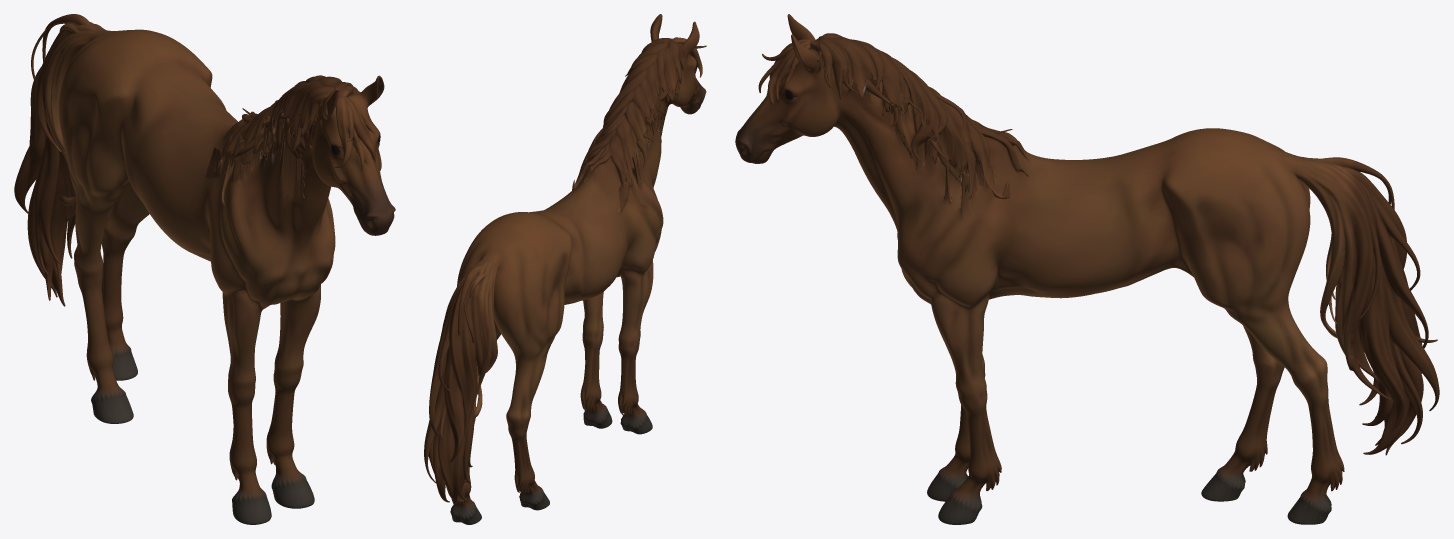
File: Halla.glb
3 renders of one model, left to right at view 1: azimuth 30°, elevation 25°; view 2: azimuth 150°, elevation 25°; view 3: azimuth 270°, elevation 25°, orthographic. The views are drawn at different scales.
Parts seen in each view (by area): view 1: Halla_LOW; view 2: Halla_LOW; view 3: Halla_LOW.
Part boxes in pixels (x1=…): Halla_LOW: x1=14, y1=14, x2=395, y2=524; Halla_LOW: x1=424, y1=14, x2=706, y2=524; Halla_LOW: x1=735, y1=14, x2=1439, y2=524.
Size of the model in its own units: 0.4897 by 2.01 by 2.66.
